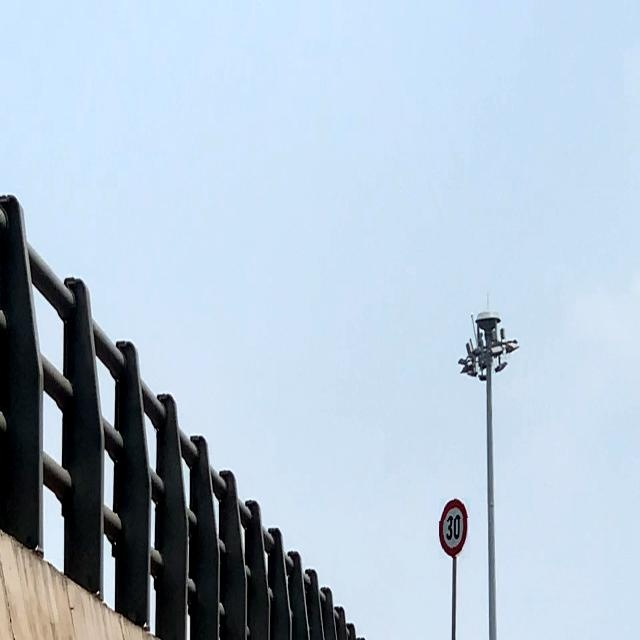bien_cam: (439, 498, 470, 559)
